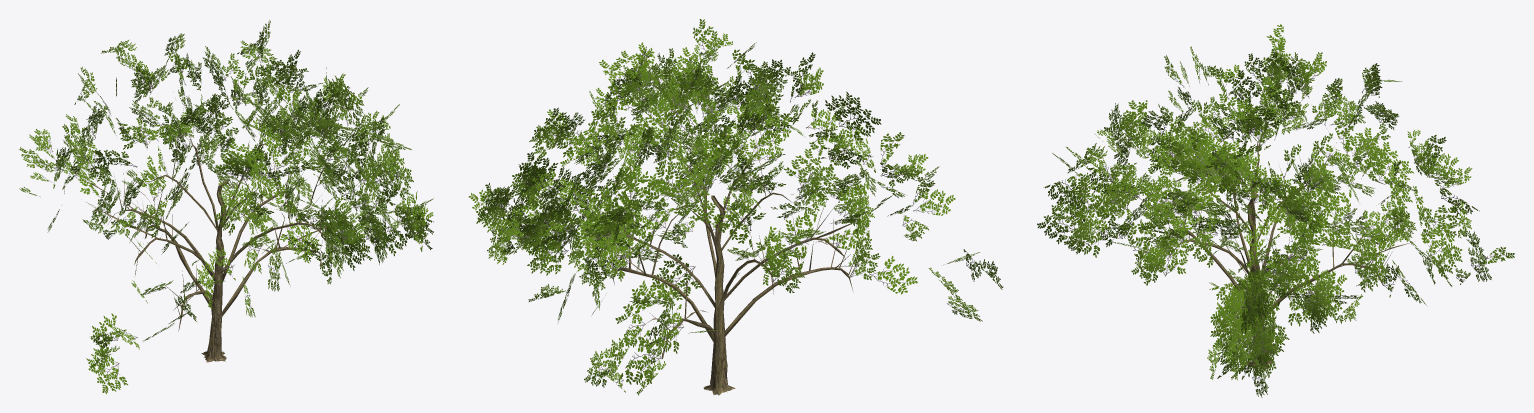
File: tr_rain_lo.glb
3 renders of one model, left to right at view 1: azimuth 30°, elevation 25°; view 2: azimuth 150°, elevation 25°; view 3: azimuth 270°, elevation 25°, orthographic. The views are drawn at different scales.
Visible parts, largest first — view 1: Euro_Beech_7; view 2: Euro_Beech_7; view 3: Euro_Beech_7.
Part boxes in pixels (<box>): Euro_Beech_7: <box>19,20,433,394</box>; Euro_Beech_7: <box>468,19,1003,395</box>; Euro_Beech_7: <box>1037,24,1514,397</box>.
Bounding box in the file's own units: 22.8 × 16.72 × 23.25.
2 materials, 2 textured.
